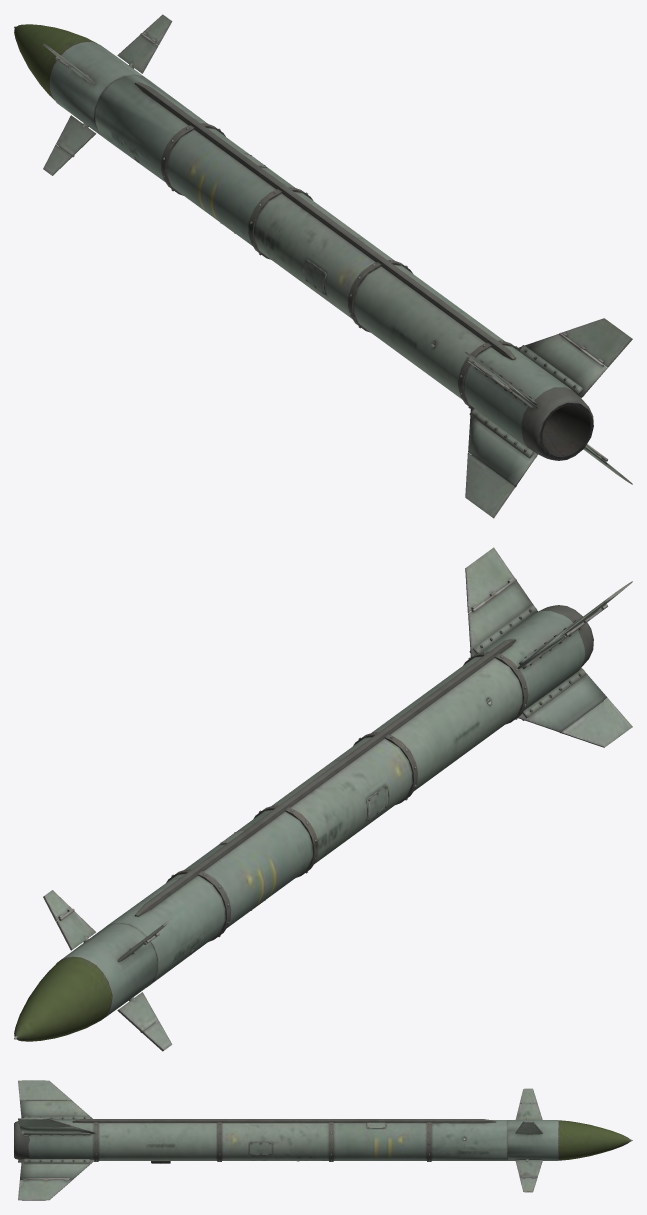
File: msl_osa_lo.glb
The picture shows the model from 3 angles, top to bottom: view 1: azimuth 30°, elevation 25°; view 2: azimuth 150°, elevation 25°; view 3: azimuth 270°, elevation 25°; orthographic projection. The views are drawn at different scales.
Parts seen in each view (by area): view 1: body|O9_paint; view 2: body|O9_paint; view 3: body|O9_paint.
Boxes of the visible parts, x1=… form: body|O9_paint: x1=14, y1=14, x2=632, y2=518; body|O9_paint: x1=14, y1=547, x2=632, y2=1051; body|O9_paint: x1=14, y1=1080, x2=632, y2=1200.
Bounding box in the file's own units: 0.4653 × 0.4653 × 3.16.
Materials: 1 (1 with a texture image).
